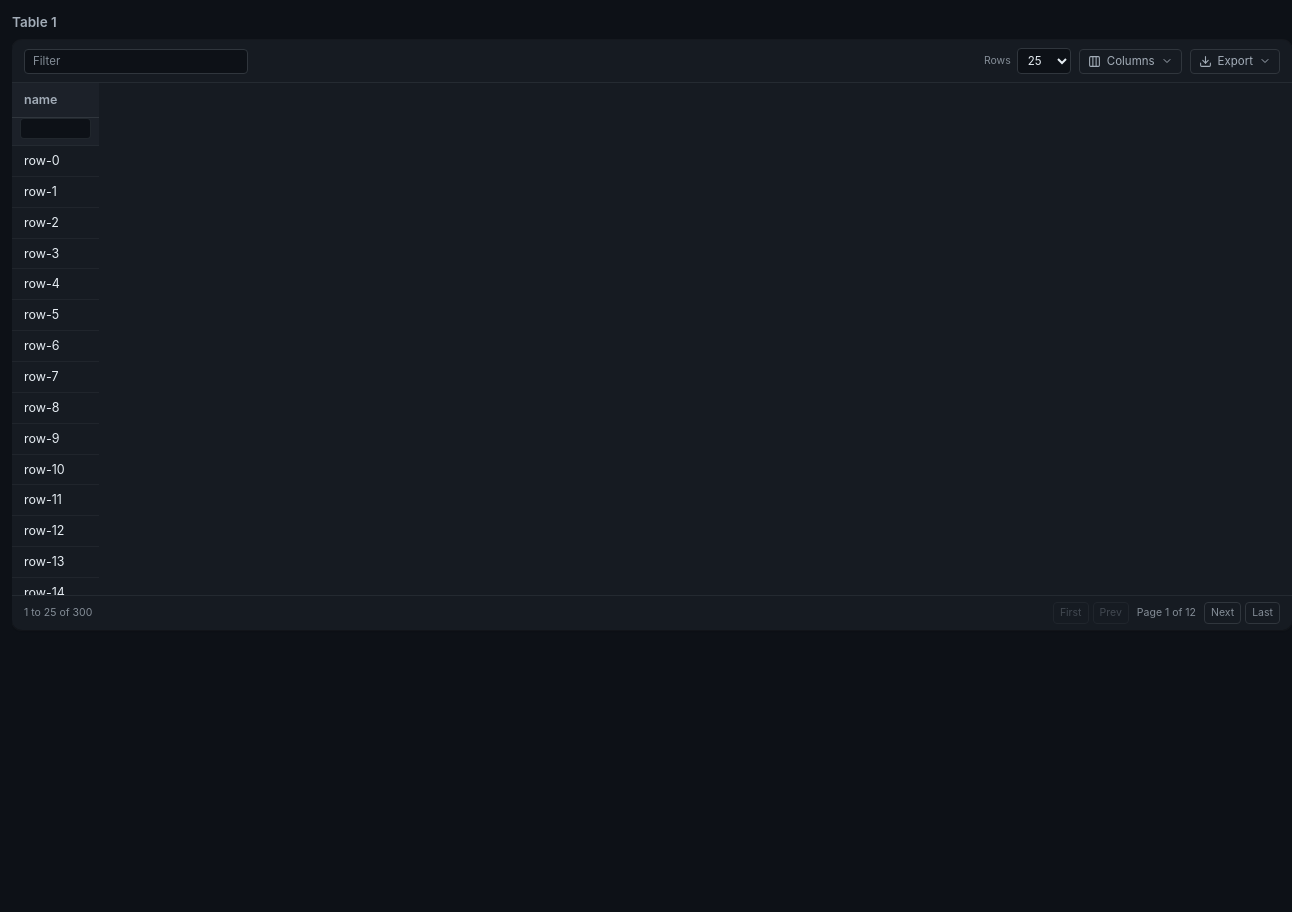
Test: every table can be filtered › filters the WHOLE table, not the page that happens to be on screen
Type "row-250" into the field with placeholder "Filter". click: (136, 61)
box: [24,49,248,74]
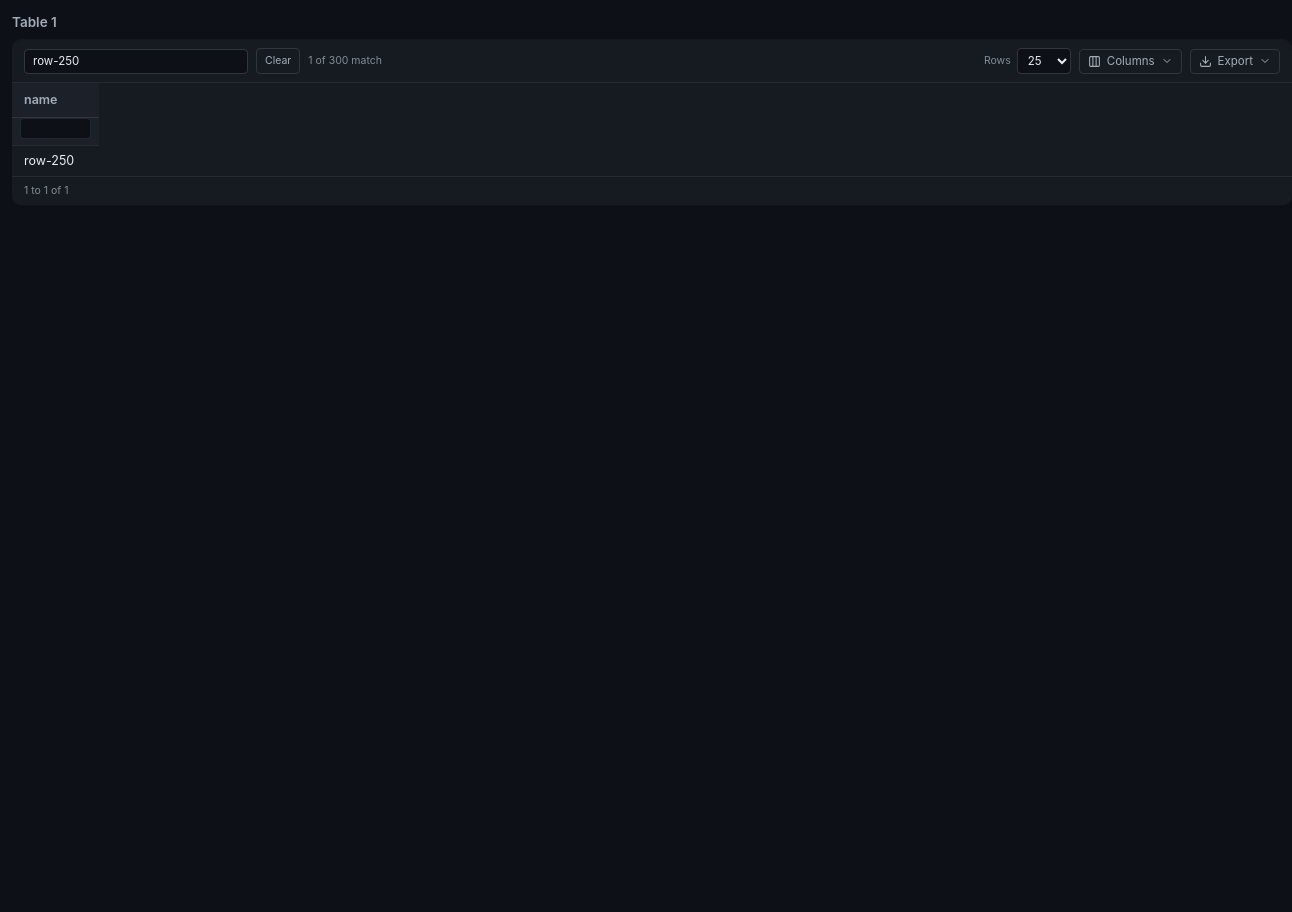
Check: the text "1 of 300 match" is shown, box [308,53,382,69]
